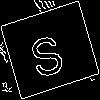S: (24, 25, 67, 80)
